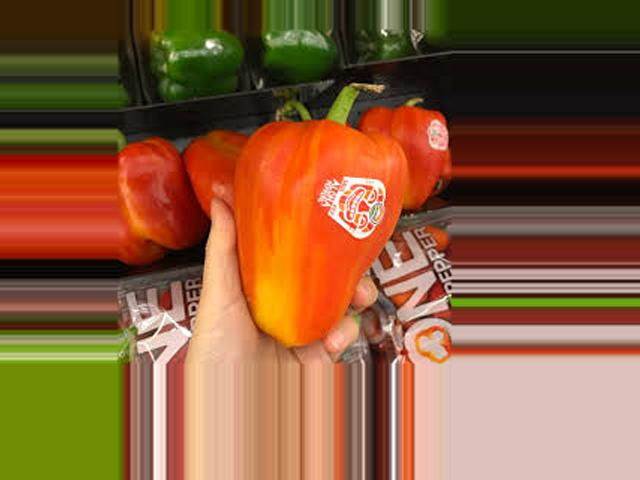bell_pepper: (213, 79, 413, 341)
